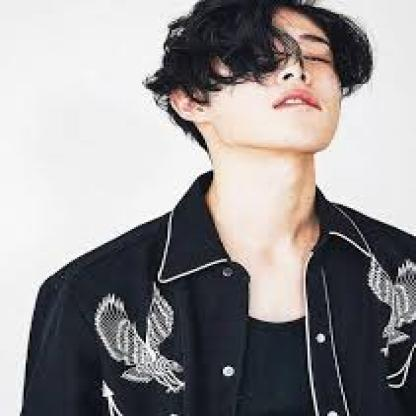person: (149, 0, 375, 170)
